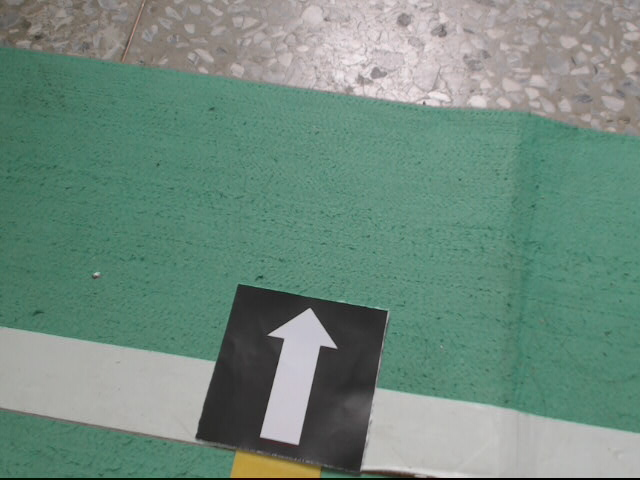straight: (197, 286, 386, 451)
